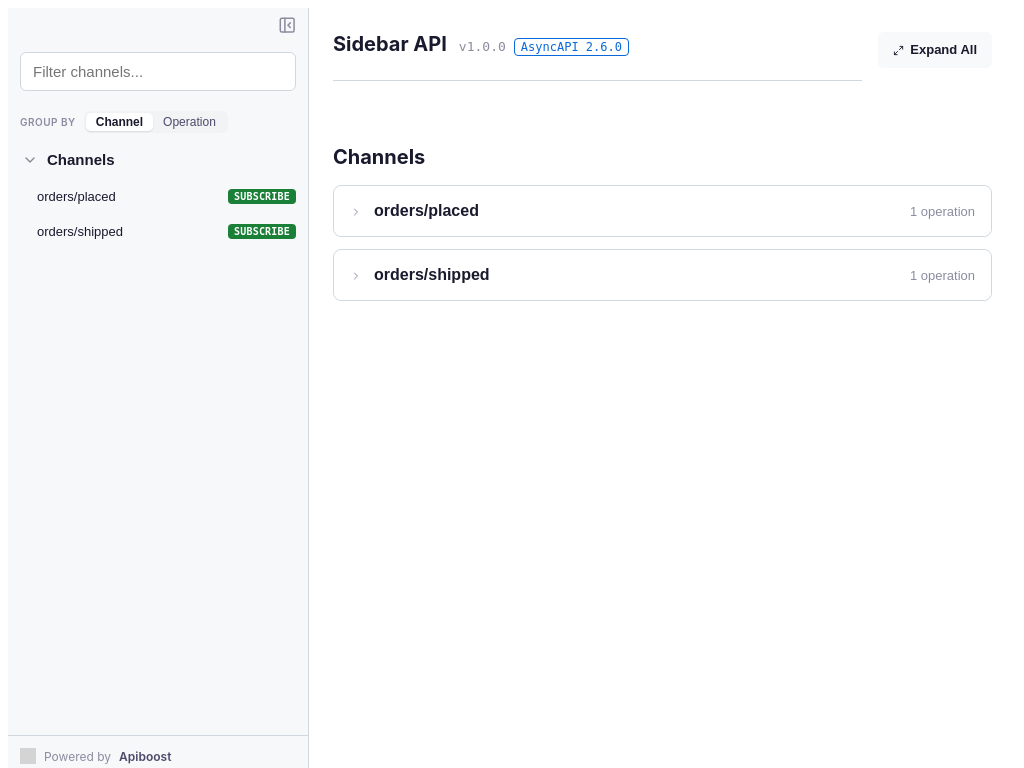
Scenario: AsyncApiSpec sidebar empty-search state › shows a "No results" affordance instead of a bare empty Channels node when a search matches nothing
The image size is (1024, 768).
Type "zzz-nothing-matches" into the field with placeholder "Filter channels...". click: (158, 71)
box: [20,52,296,91]
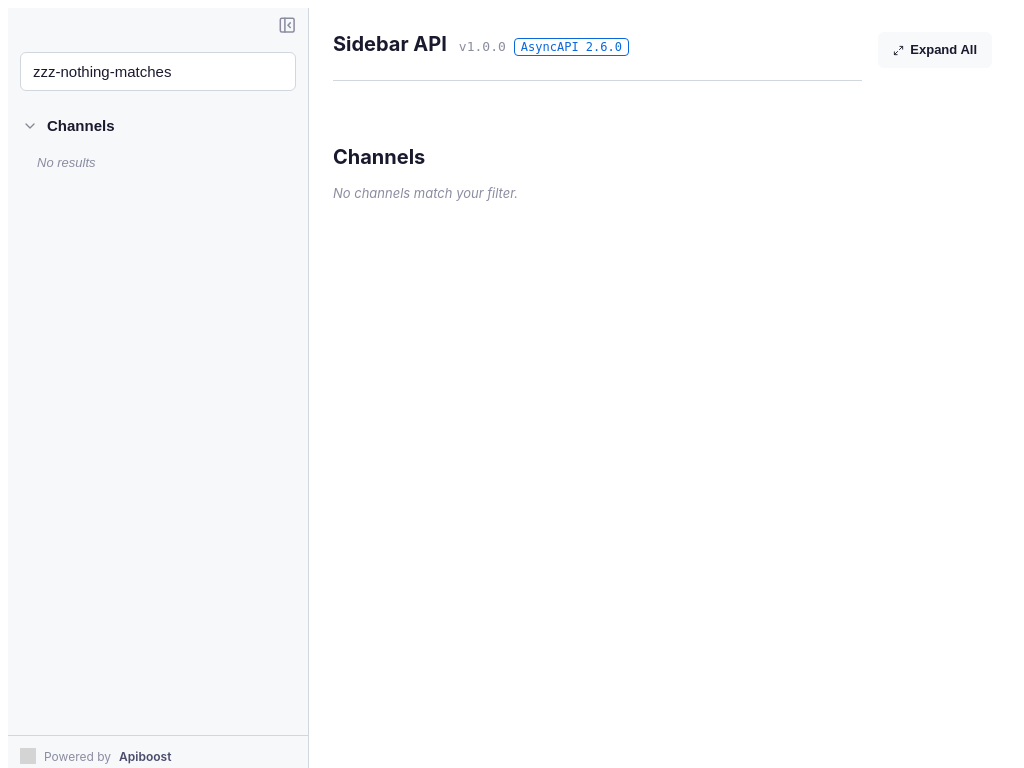
Expected: the text "No results" is shown, [37,155,96,170]
